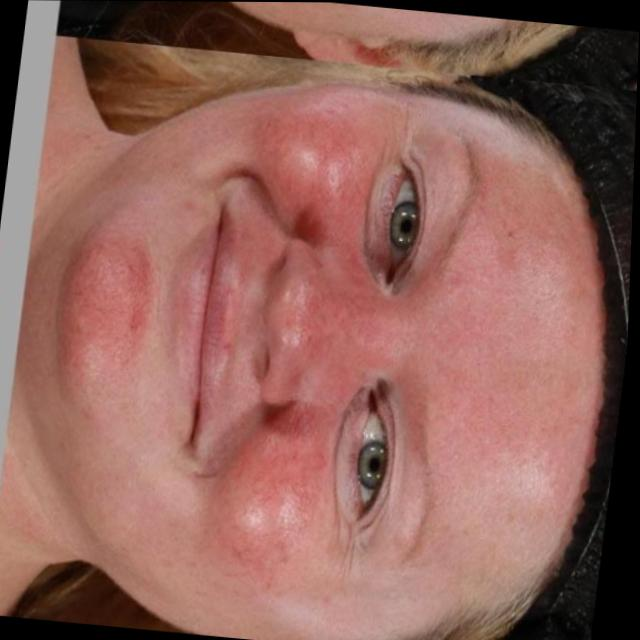Rosacea: (407, 139, 622, 562), (180, 401, 341, 615), (232, 82, 404, 281), (268, 260, 436, 422), (44, 214, 164, 407)
